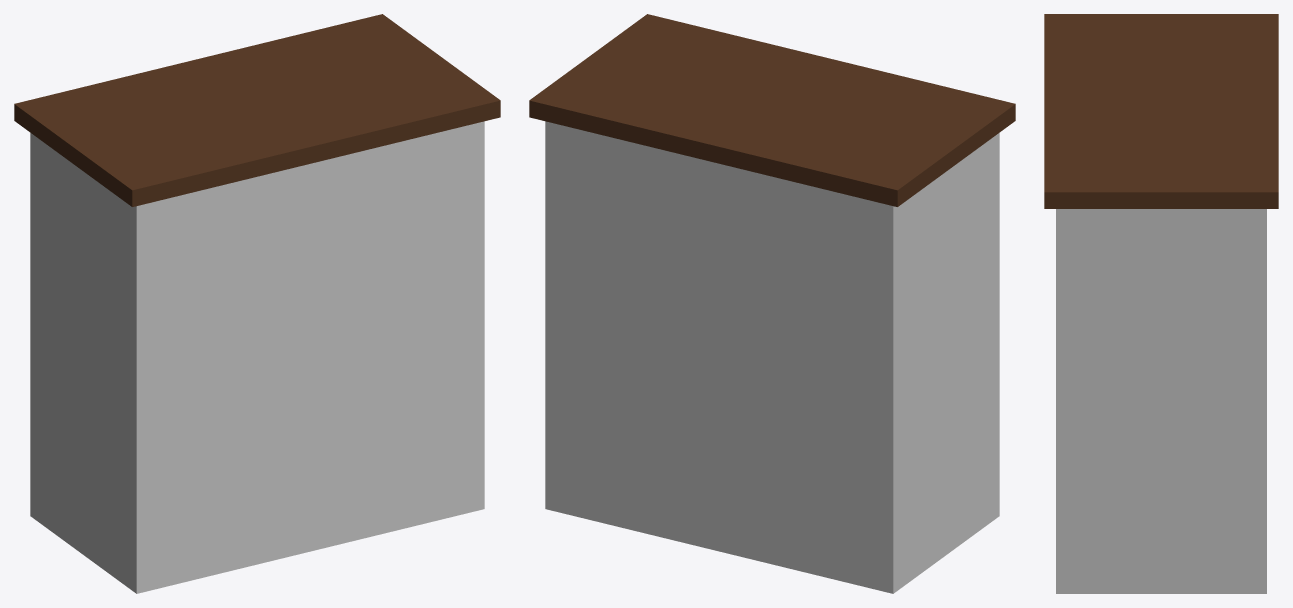
The model's file is aparador.glb.
The picture shows the model from 3 angles, left to right: view 1: azimuth 30°, elevation 25°; view 2: azimuth 150°, elevation 25°; view 3: azimuth 270°, elevation 25°; orthographic projection.
Parts seen in each view (by area): view 1: aparador; view 2: aparador; view 3: aparador.
Part boxes in pixels (x1,y1,x2,y2): aparador: (14, 14, 500, 593); aparador: (529, 14, 1015, 593); aparador: (1044, 14, 1278, 593).
Size of the model in its own units: 1.37 by 1.46 by 0.762.
